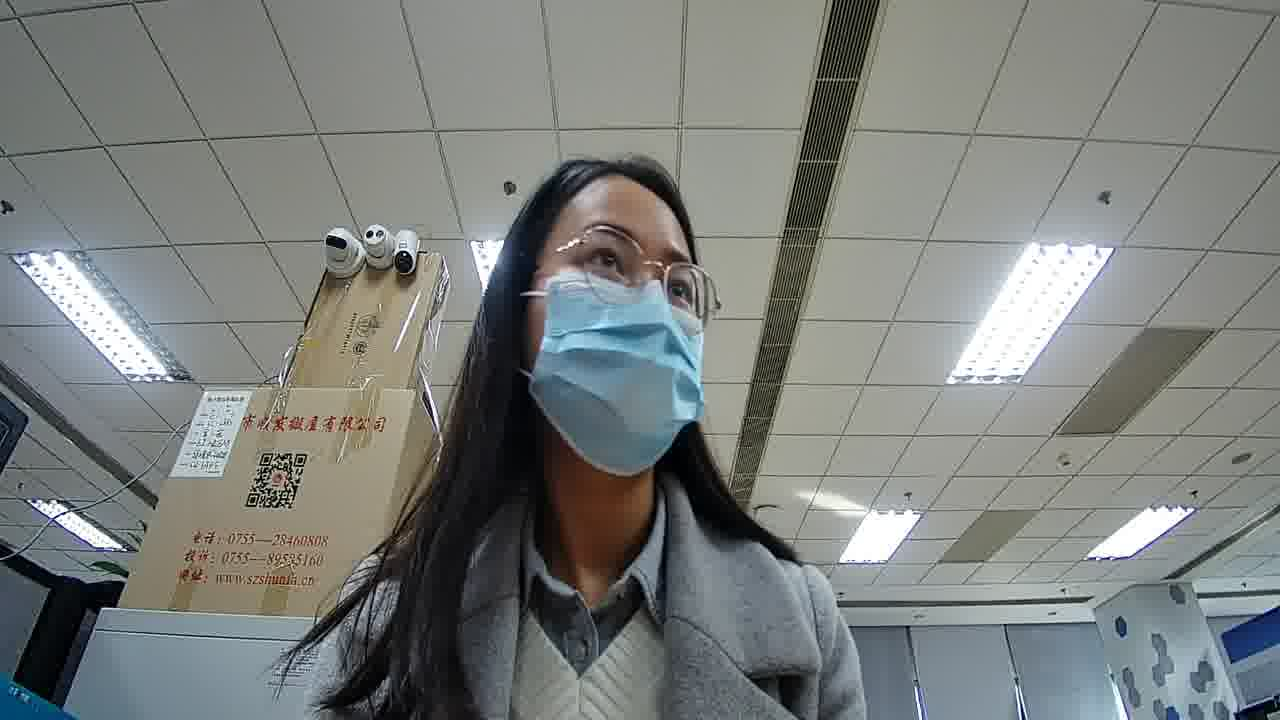face: (516, 173, 714, 480)
mask: (542, 278, 710, 488)
person: (334, 130, 876, 719)
